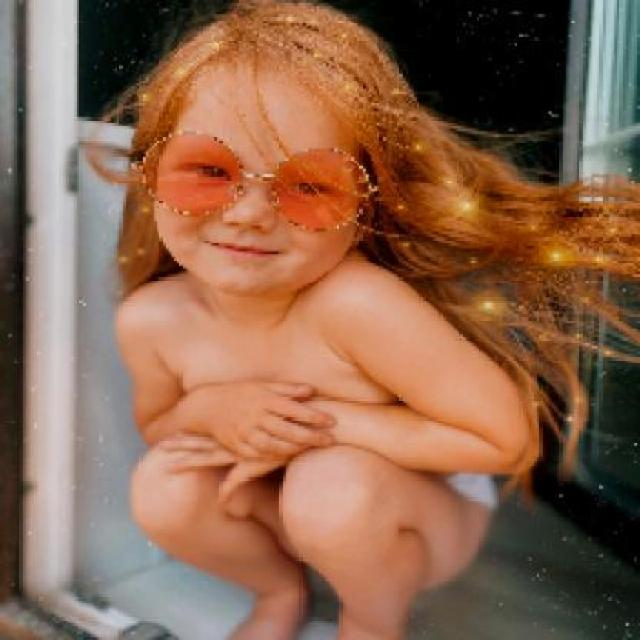child: (111, 0, 640, 637)
